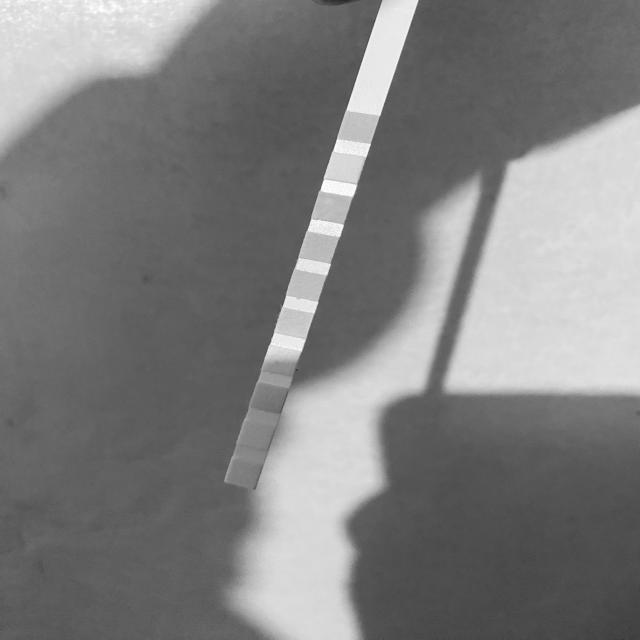Bilirubin: (330, 158, 359, 179)
Blood: (292, 277, 320, 296)
Glucose: (343, 116, 372, 140)
Ketone: (317, 198, 346, 218)
Leukocytes: (229, 466, 258, 482)
Nitrite: (241, 428, 271, 443)
Protein: (267, 352, 294, 371)
SpGravity: (304, 239, 332, 259)
Urobilinogen: (255, 389, 282, 407)
background: (0, 0, 640, 640)
pH: (280, 314, 308, 334)
strip: (224, 0, 419, 490)
